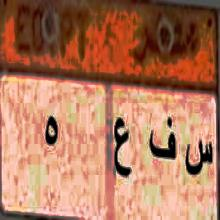5: (40, 107, 63, 161)
ain: (110, 113, 134, 187)
faa: (150, 116, 178, 165)
seen: (183, 127, 214, 183)
